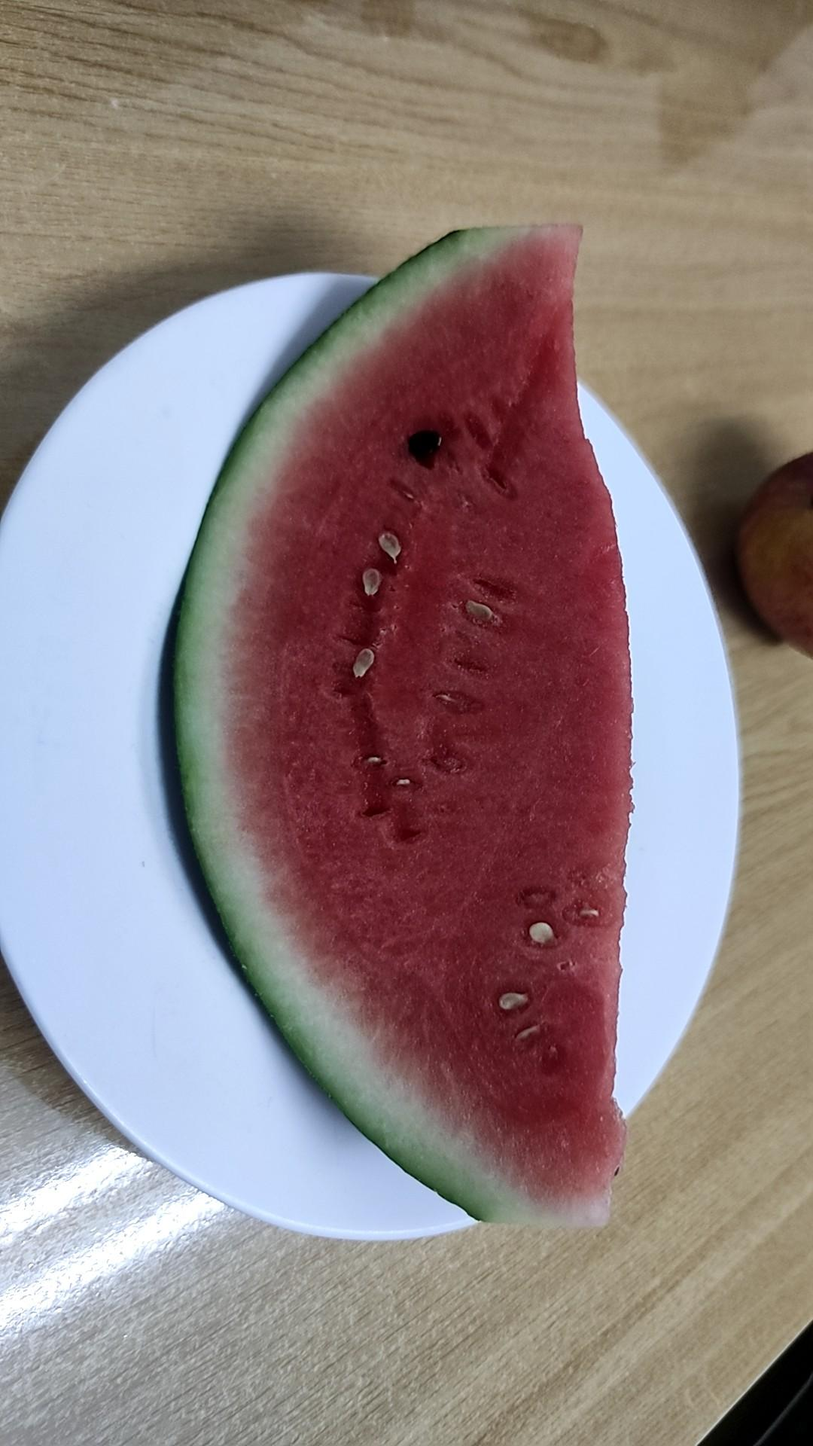fruit: (176, 225, 632, 1225)
